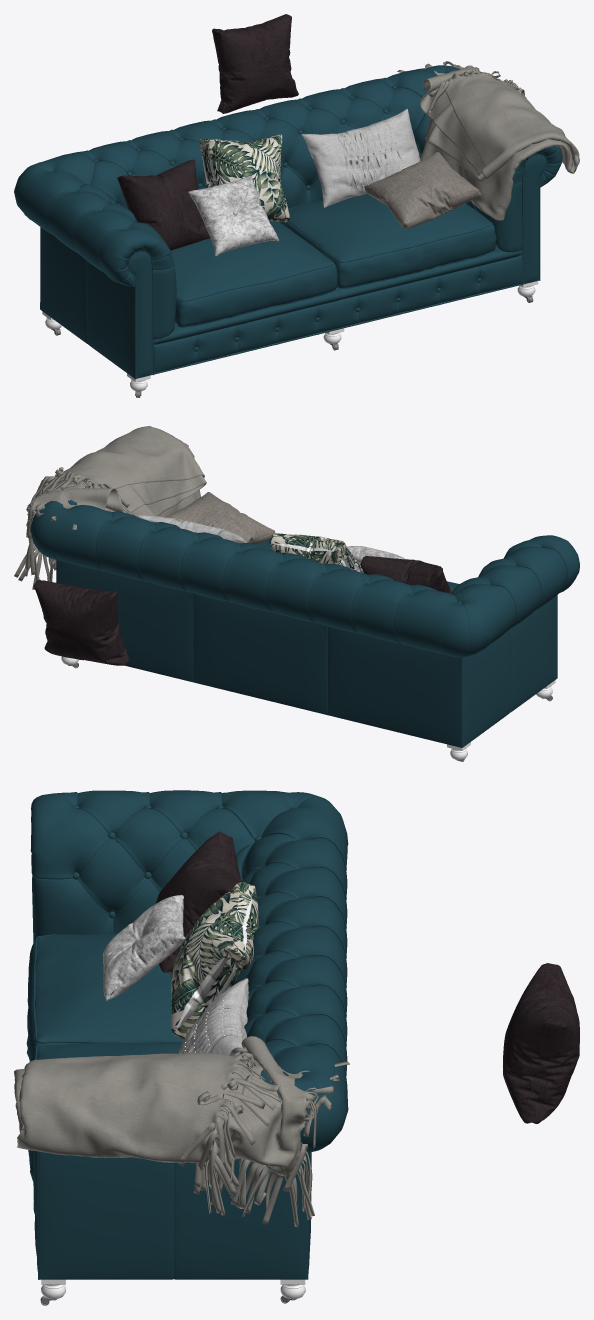
File: sofa.glb
The picture shows the model from 3 angles, top to bottom: view 1: azimuth 30°, elevation 25°; view 2: azimuth 150°, elevation 25°; view 3: azimuth 270°, elevation 25°; orthographic projection. The views are drawn at different scales.
Parts seen in each view (by area): view 1: Kensington base, Kensington seat, forget, Beehive pillow, forget_Chocofur_Textile_03.004, Chocofur_Textile_03.002, Chocofur_Textile_03, Chocofur_Textile_03.003, Blue velvet button cushion A, Kensington legs; view 2: Kensington base, forget, forget_Chocofur_Textile_03.004, Chocofur_Textile_03, Chocofur_Textile_03.003, Chocofur_Textile_03.002, Beehive pillow, Kensington legs, Blue velvet button cushion A; view 3: Kensington base, forget, Kensington seat, forget_Chocofur_Textile_03.004, Chocofur_Textile_03.003, Blue velvet button cushion A, Chocofur_Textile_03.002, Beehive pillow, Kensington legs.
Part boxes in pixels (<box>): Kensington base: <box>14,65,562,379</box>; Kensington seat: <box>129,193,496,327</box>; forget: <box>397,61,579,220</box>; Beehive pillow: <box>301,109,420,207</box>; forget_Chocofur_Textile_03.004: <box>212,14,298,113</box>; Chocofur_Textile_03.002: <box>117,159,210,250</box>; Chocofur_Textile_03: <box>364,152,480,229</box>; Chocofur_Textile_03.003: <box>199,134,290,222</box>; Blue velvet button cushion A: <box>188,175,279,256</box>; Kensington legs: <box>42,281,538,397</box>; Kensington base: <box>30,500,579,747</box>; forget: <box>14,426,206,589</box>; forget_Chocofur_Textile_03.004: <box>34,579,129,665</box>; Chocofur_Textile_03: <box>165,492,275,544</box>; Chocofur_Textile_03.003: <box>269,533,364,573</box>; Chocofur_Textile_03.002: <box>360,556,451,593</box>; Beehive pillow: <box>137,515,246,543</box>; Kensington legs: <box>61,656,555,761</box>; Blue velvet button cushion A: <box>347,546,405,564</box>; Kensington base: <box>30,790,348,1279</box>; forget: <box>14,1036,349,1227</box>; Kensington seat: <box>26,933,183,1181</box>; forget_Chocofur_Textile_03.004: <box>503,963,579,1123</box>; Chocofur_Textile_03.003: <box>171,882,258,1040</box>; Blue velvet button cushion A: <box>103,895,185,1001</box>; Chocofur_Textile_03.002: <box>156,831,241,974</box>; Beehive pillow: <box>179,978,248,1055</box>; Kensington legs: <box>40,1279,305,1305</box>.
Size of the model in its own units: 2.39 by 0.8227 by 1.68.
Materials: 11 (7 with a texture image).
